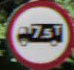Heavy Vehicles: (6, 3, 67, 61)
